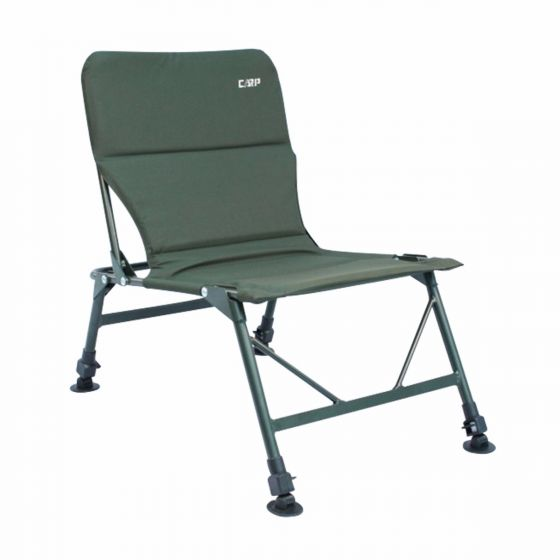chairs: (64, 50, 501, 522)
